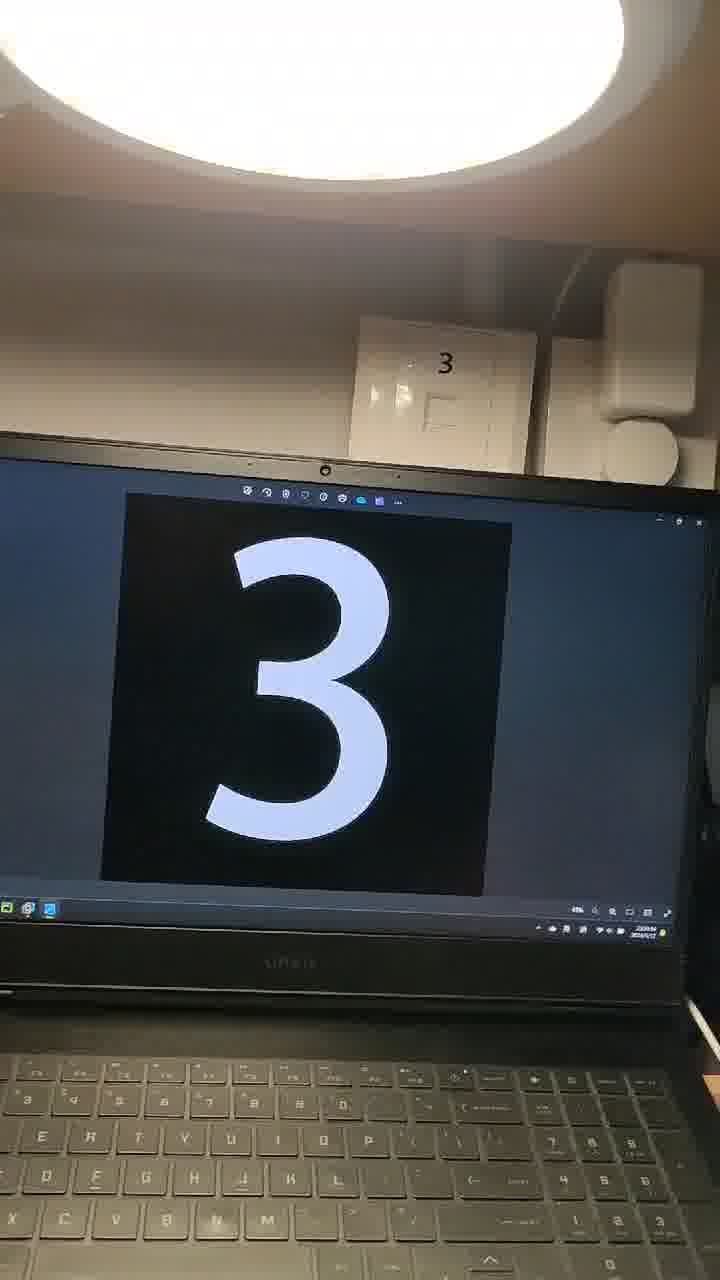three: (175, 481, 520, 855)
